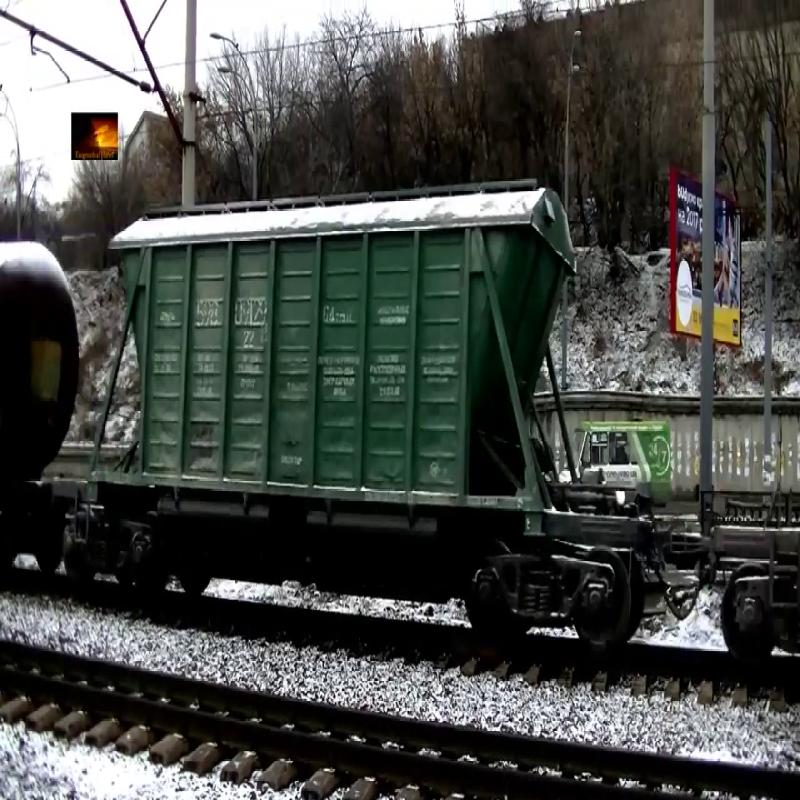train: (91, 173, 602, 533), (1, 232, 82, 511)
